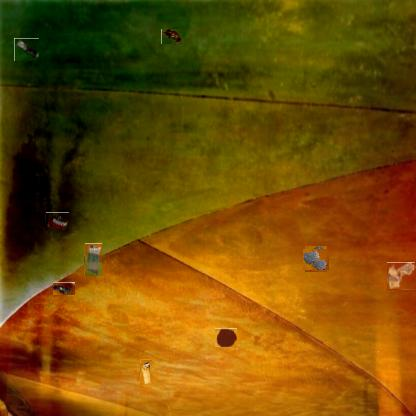dirty: (387, 261, 416, 290), (84, 243, 102, 276), (14, 38, 39, 61), (45, 212, 69, 231), (161, 28, 182, 44), (140, 359, 152, 385), (53, 282, 75, 295)
liquid: (304, 247, 328, 272), (215, 328, 237, 347)
